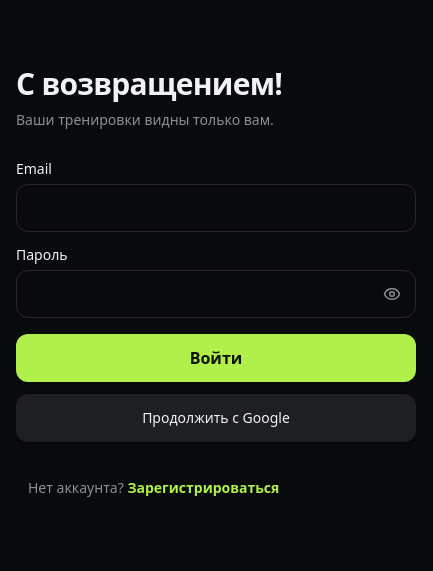
Test: does not submit when password confirmation is empty
Click the button "Нет аккаунта? Зарегистрироваться" at (216, 488), box x1=16 y1=466 x2=416 y2=510
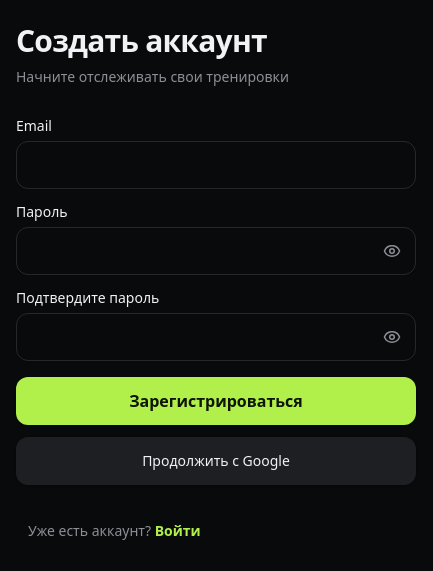
Type "user@example.com" into the field labelled "Email" at (216, 165), box x1=16 y1=141 x2=416 y2=189
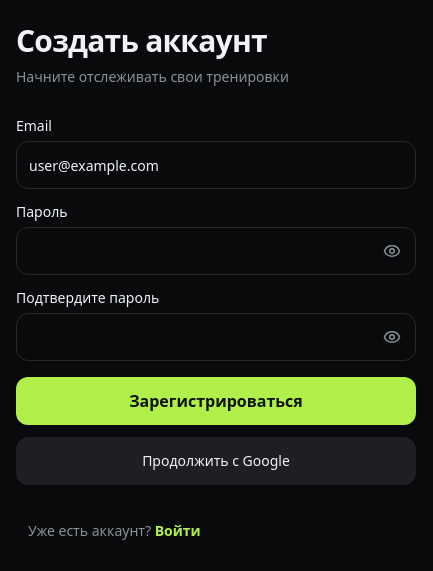
Type "strong-pass" into the password field labelled "Пароль" at (216, 251), box x1=16 y1=227 x2=416 y2=275
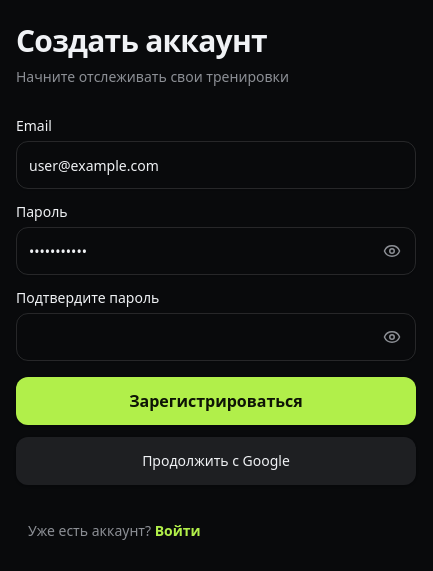
Submit the form "Зарегистрироваться", box x1=16 y1=119 x2=416 y2=425
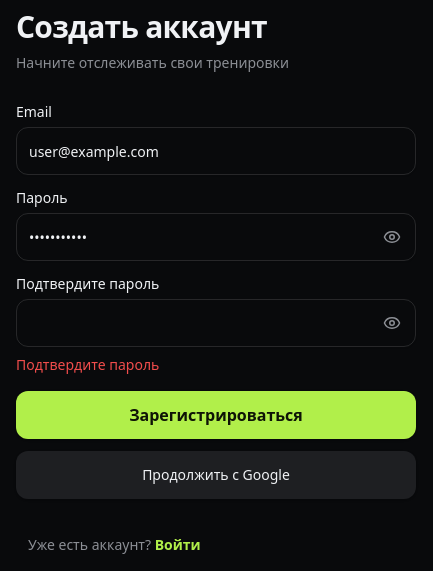
Check: the message reads "Подтвердите пароль", box x1=16 y1=355 x2=159 y2=374
